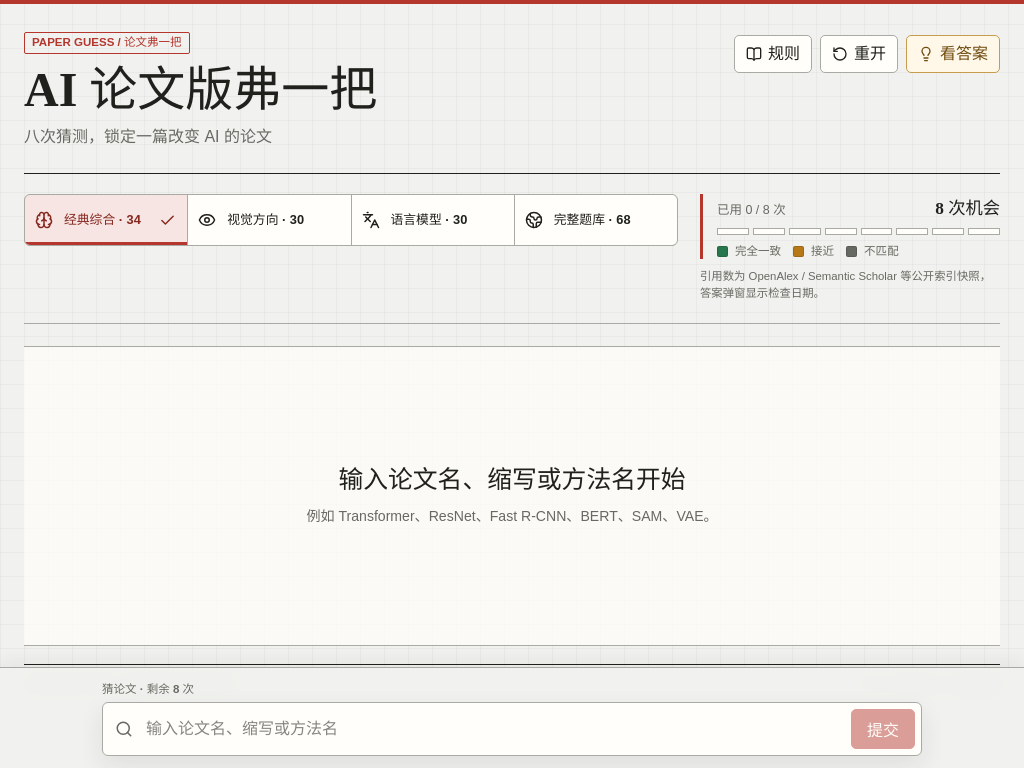
Test: GamePage › reveals the answer and opens the rules dialog
The width and height of the screenshot is (1024, 768).
Click the button "看答案" at (953, 54), box x1=906 y1=35 x2=1000 y2=73
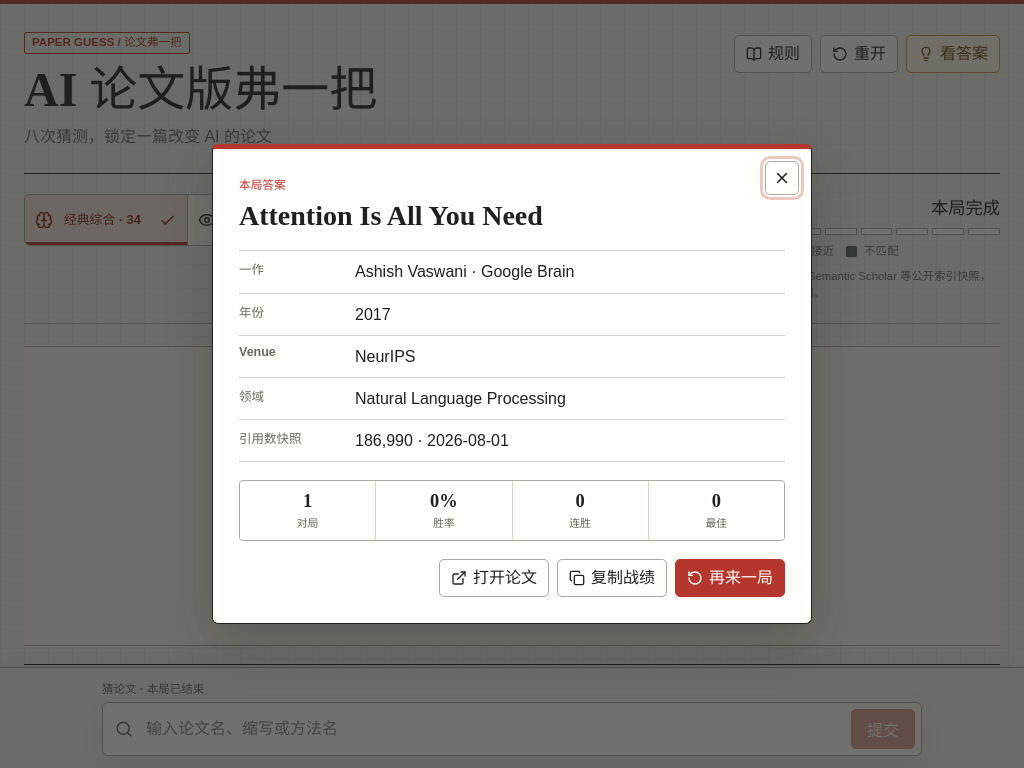
Check: the dialog "本局答案" is shown, box x1=212 y1=144 x2=812 y2=624
Check: the text "猜论文 · 本局已结束" is shown, box x1=102 y1=683 x2=204 y2=695
Check: the text "猜论文 · 剩余 8 次" is gone
Click the button named "关闭" at (782, 178), box x1=765 y1=161 x2=799 y2=195
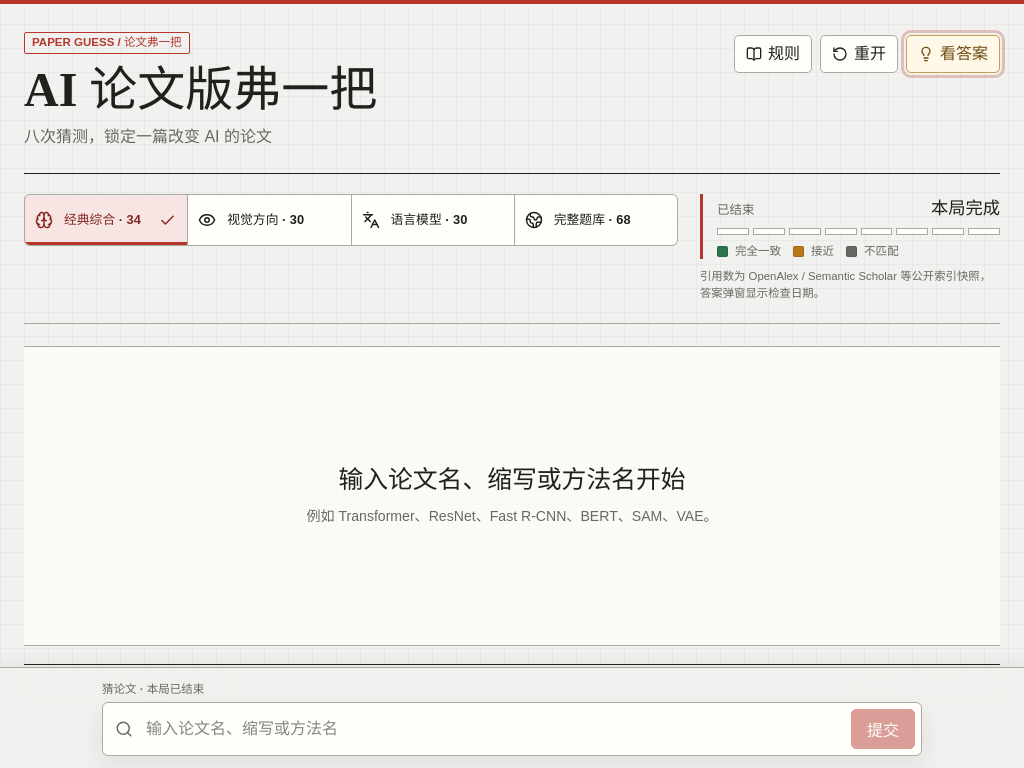
Click the button "规则" at (773, 54), box x1=734 y1=35 x2=812 y2=73
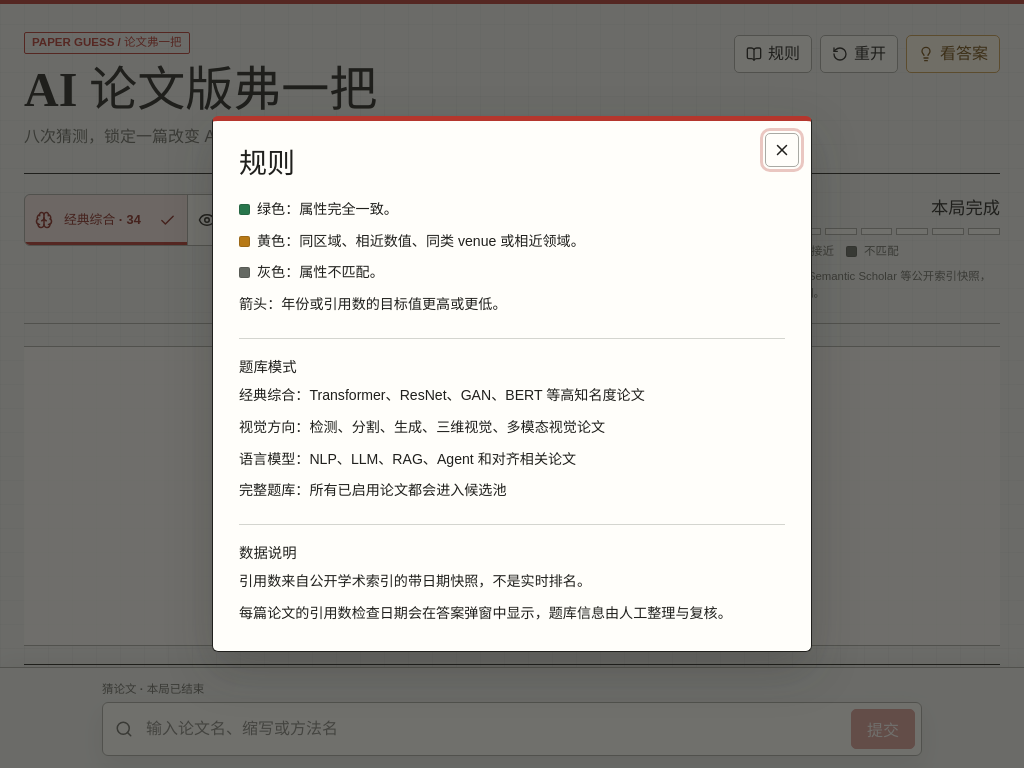
Check: the dialog named "游戏规则" is shown, box x1=212 y1=116 x2=812 y2=652
Check: the text "绿色：属性完全一致。" is shown, box x1=239 y1=201 x2=398 y2=217
Check: the dialog named "游戏规则" shows "Transformer、ResNet、GAN、BERT 等高知名度论文", box x1=309 y1=387 x2=645 y2=403
